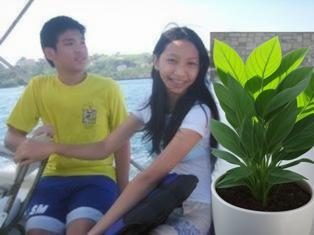person: (16, 28, 217, 235), (4, 16, 132, 235)
pottedplant: (210, 32, 314, 235)
